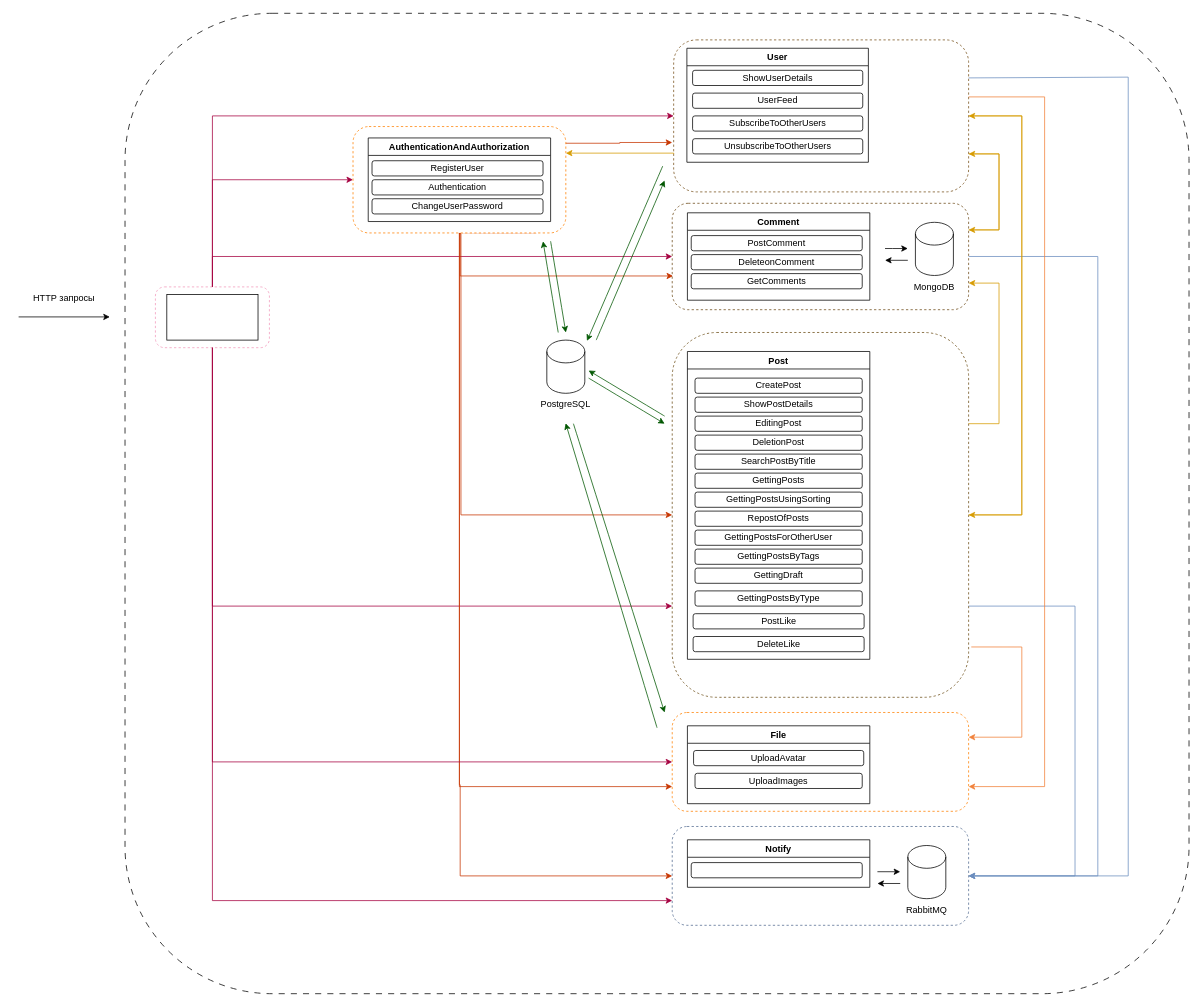
This 1202x1007 diagram has some shape labels left out. The shapes that lost their labels are listed below. From the top down, each one's centre as x and y in pixels, then its label:
pixel 212 317: API GATEWAY
pixel 776 870: Email
